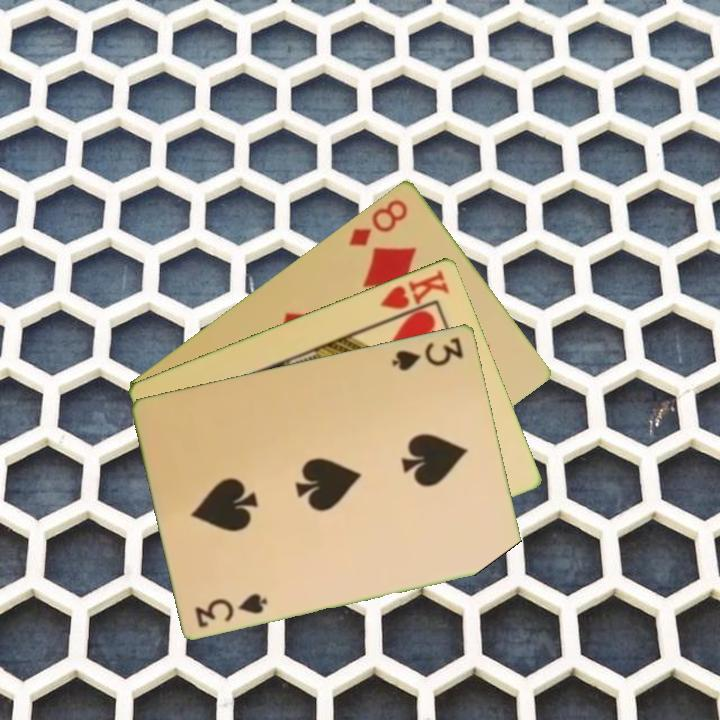3s: (191, 589, 271, 630), (388, 333, 467, 374)
8d: (345, 195, 411, 249)
Kh: (376, 266, 453, 324)
